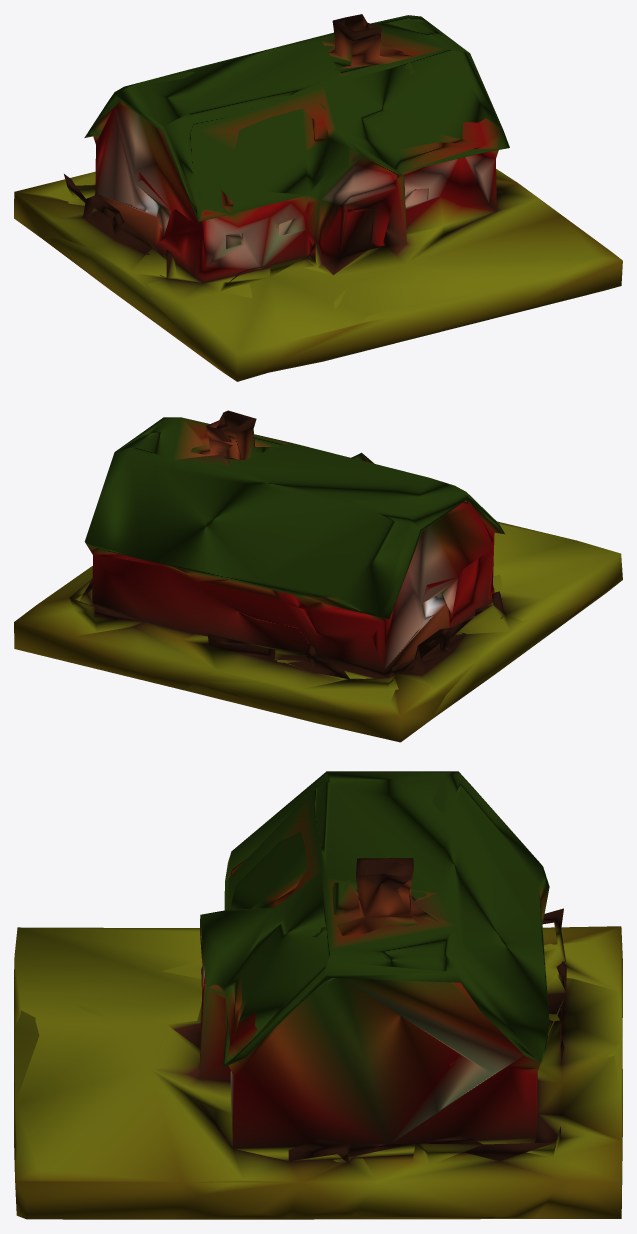
File: gen3d-farm-lod1.glb
3 views of the same model, one above another, from view 1: azimuth 30°, elevation 25°; view 2: azimuth 150°, elevation 25°; view 3: azimuth 270°, elevation 25° (orthographic). The views are drawn at different scales.
Visible parts, largest first — view 1: part_0; view 2: part_0; view 3: part_0.
Boxes of the visible parts, <box> form: part_0: <box>14,14,622,381</box>; part_0: <box>14,410,622,742</box>; part_0: <box>14,771,622,1219</box>.
Size of the model in its own units: 2.06 by 1 by 2.06.
